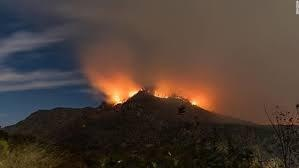fire: (97, 73, 143, 105), (188, 96, 201, 107)
